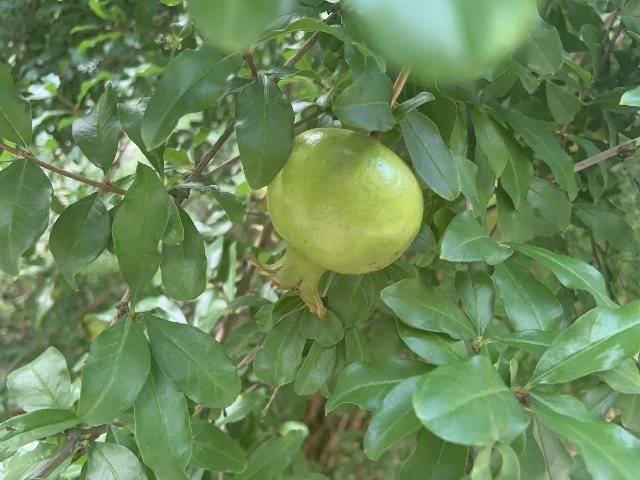mid-growth: (246, 126, 423, 320)
